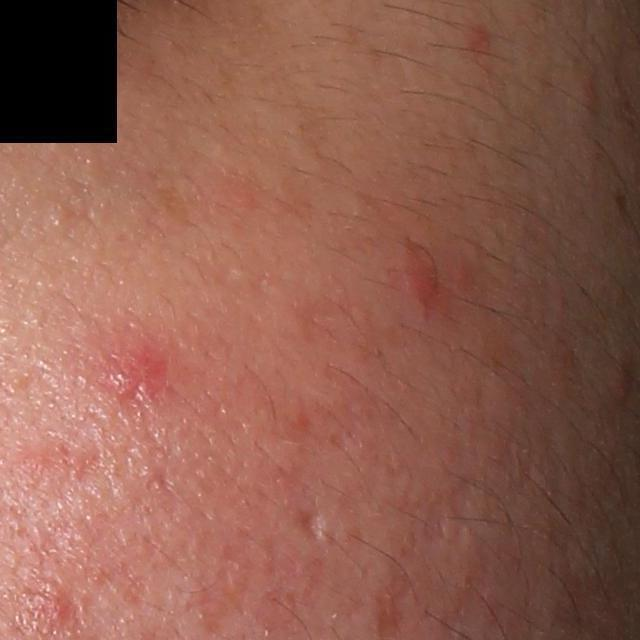atrophic_scar: (292, 507, 322, 541)
papule: (105, 337, 172, 404), (398, 252, 442, 309), (463, 20, 492, 51)
